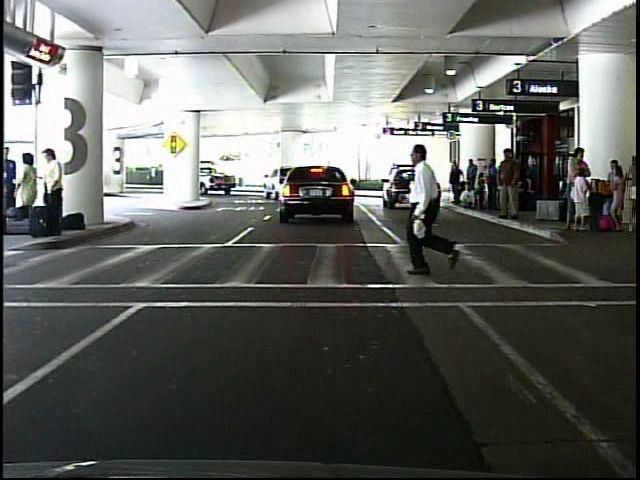person: (400, 134, 465, 285), (42, 146, 70, 240), (14, 150, 44, 233), (496, 145, 526, 225), (448, 161, 465, 206), (147, 162, 159, 188)
